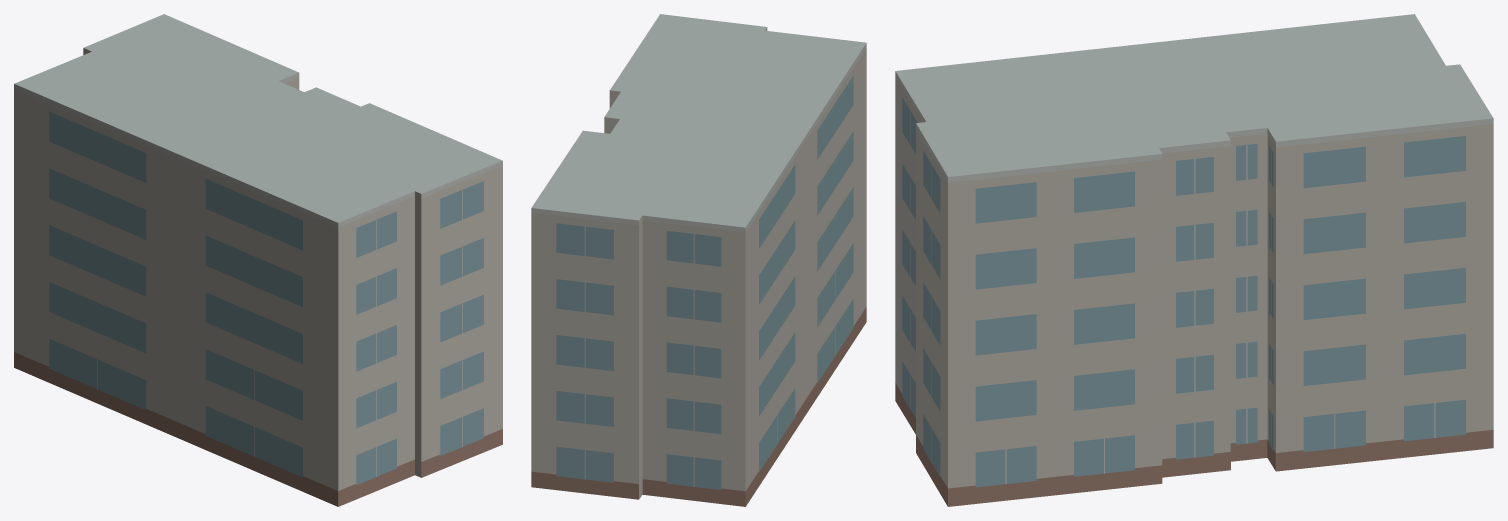
Rendered from survey-upis-32858724.glb.
The picture shows the model from 3 angles, left to right: view 1: azimuth 30°, elevation 25°; view 2: azimuth 150°, elevation 25°; view 3: azimuth 270°, elevation 25°; orthographic projection. The views are drawn at different scales.
Parts seen in each view (by area): view 1: survey-upis-32858724.tmp; view 2: survey-upis-32858724.tmp; view 3: survey-upis-32858724.tmp.
Part boxes in pixels (<box>): survey-upis-32858724.tmp: <box>14,14,502,506</box>; survey-upis-32858724.tmp: <box>531,14,866,506</box>; survey-upis-32858724.tmp: <box>895,14,1493,506</box>.
Size of the model in its own units: 14.91 by 14.05 by 23.11.
